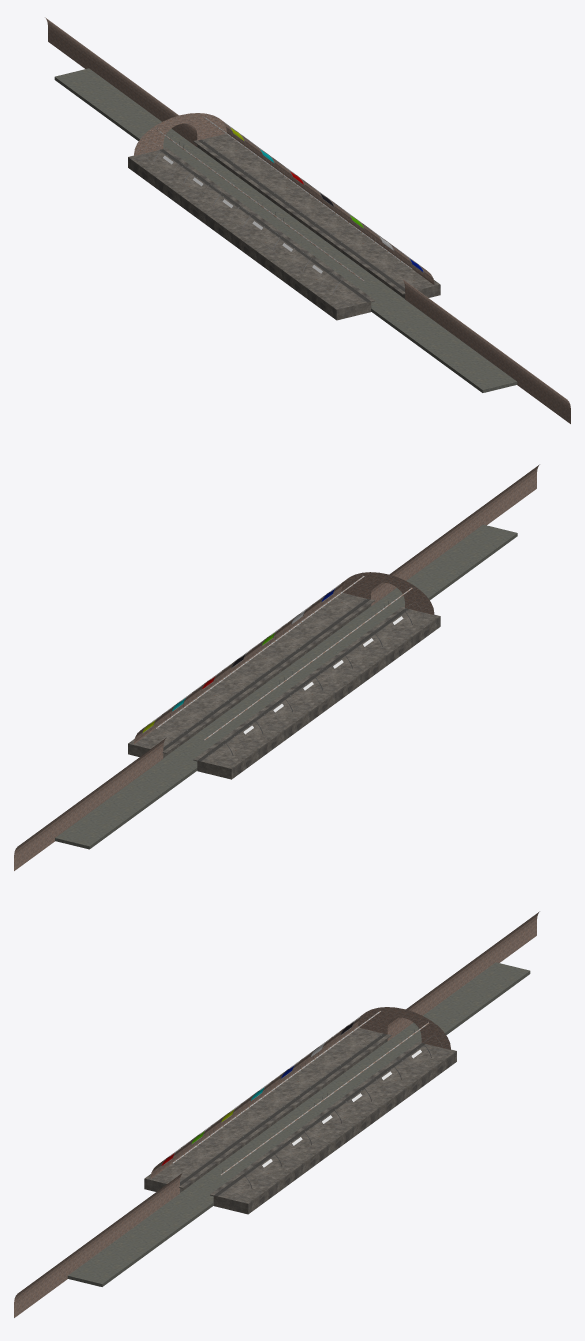
Rendered from metro_station.glb.
The picture shows the model from 3 angles, top to bottom: view 1: azimuth 30°, elevation 25°; view 2: azimuth 150°, elevation 25°; view 3: azimuth 330°, elevation 25°; orthographic projection.
Visible parts, largest first — view 1: Sol, GravelFloor, Mur, LightRails, Advertisement; view 2: Sol, GravelFloor, Mur, LightRails, Advertisement; view 3: Sol, GravelFloor, Mur, LightRails, Advertisement.
Part boxes in pixels (x1,y1,x2,y2): Sol: (128,133,440,320); GravelFloor: (54,68,517,392); Mur: (45,17,570,423); LightRails: (156,116,412,281); Advertisement: (142,122,424,294); Sol: (128,593,440,779); GravelFloor: (55,524,517,849); Mur: (14,464,539,870); LightRails: (155,574,412,740); Advertisement: (141,583,423,755); Sol: (144,1027,456,1214); GravelFloor: (67,962,530,1286); Mur: (14,911,539,1317); LightRails: (172,1010,428,1175); Advertisement: (160,1016,442,1188).
Bounding box in the file's own units: 20.38 × 7.56 × 178.
14 materials, 6 textured.
